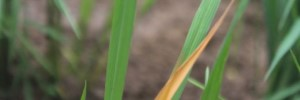RiceTungro: (163, 1, 226, 96)
